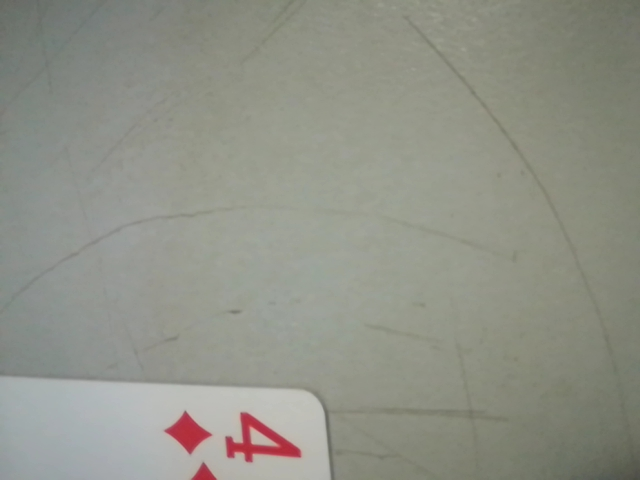fk 4: (164, 404, 317, 476)
